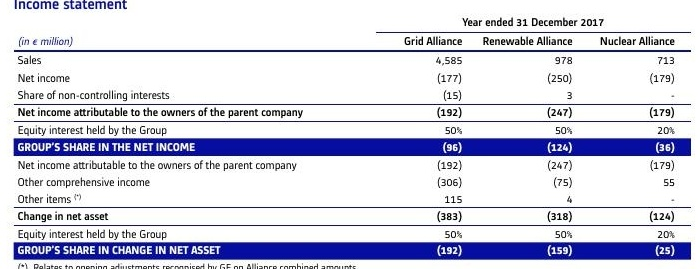table: (0, 0, 700, 269)
